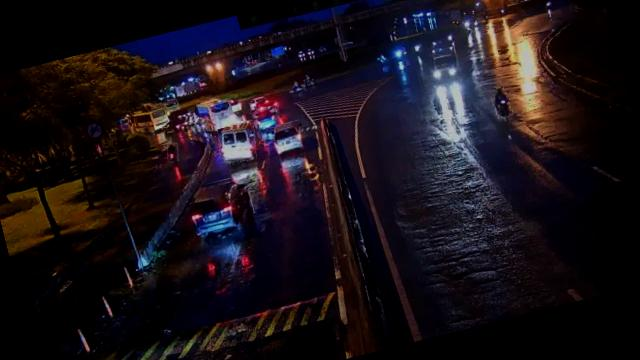Bike: (488, 86, 512, 120), (165, 142, 181, 163)
Bus: (212, 116, 260, 166), (196, 93, 237, 132)
Car: (188, 175, 256, 238), (268, 119, 306, 158), (250, 106, 281, 133)
